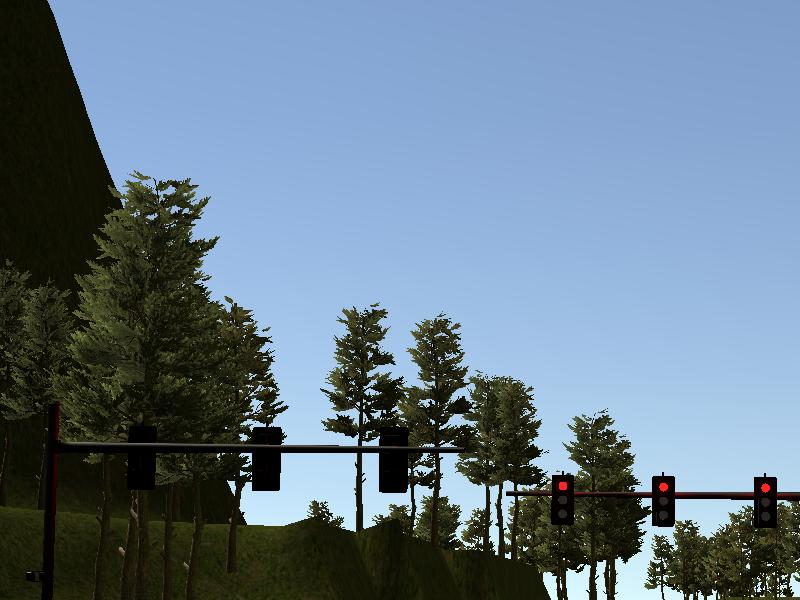Red: (550, 475, 575, 525), (754, 477, 778, 529), (653, 475, 676, 527)
